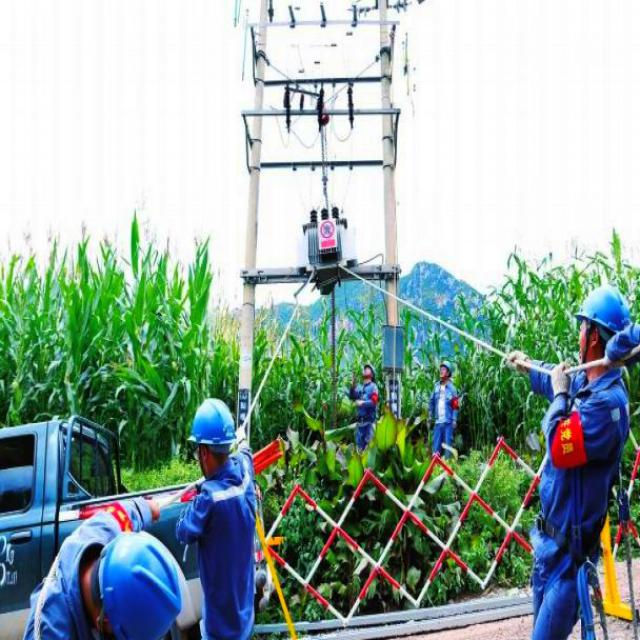helmet: (564, 270, 638, 374), (179, 385, 248, 488)
